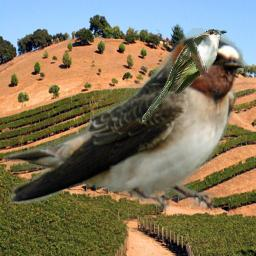Cuckoo: (140, 28, 227, 125)
Swallow: (3, 28, 255, 214)
